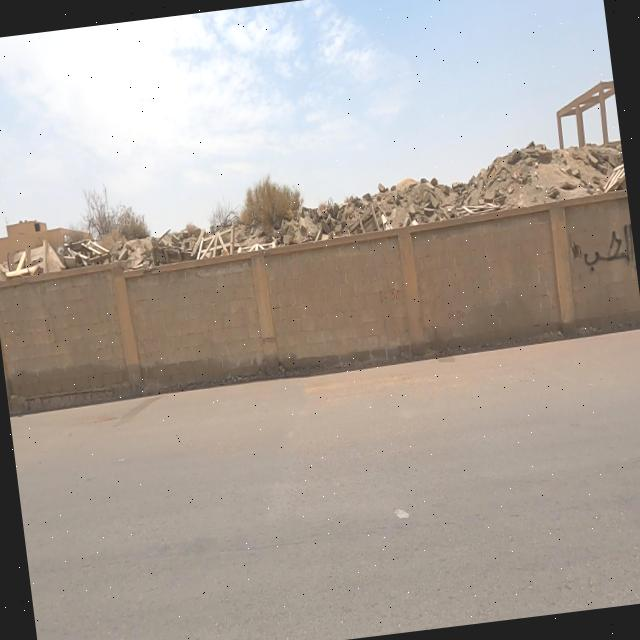Graffiti: (581, 222, 637, 278)
